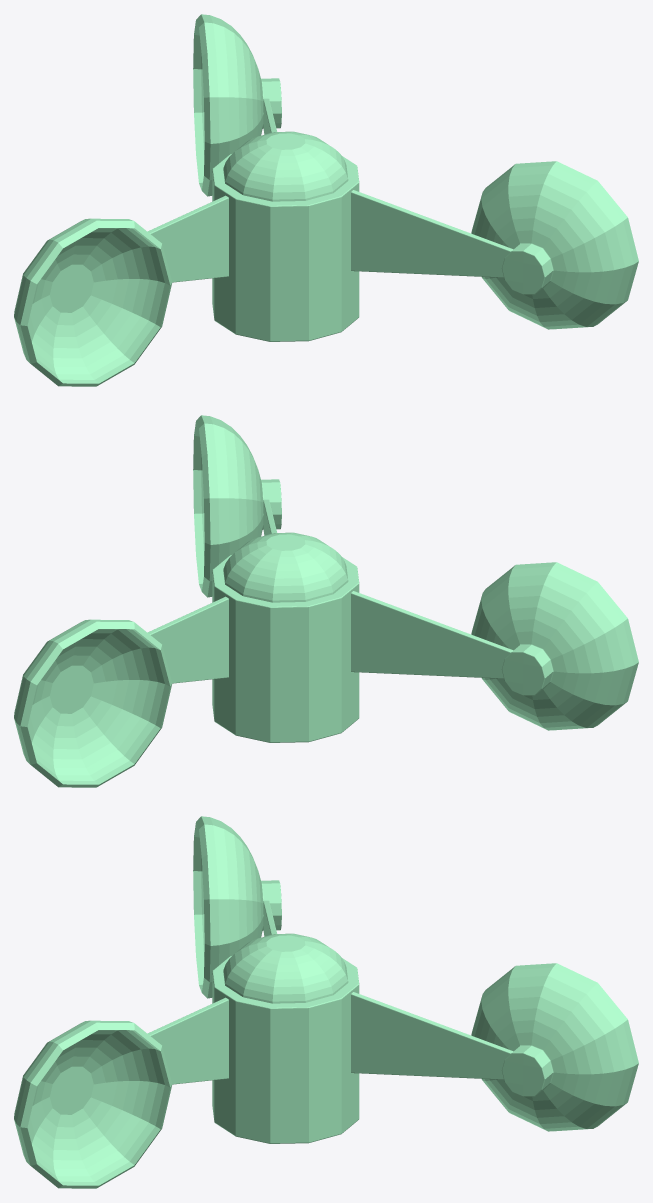
Rendered from TurbineTop.fbx.
3 views of the same model, one above another, from view 1: azimuth 30°, elevation 25°; view 2: azimuth 150°, elevation 25°; view 3: azimuth 270°, elevation 25° (orthographic).
Parts seen in each view (by area): view 1: TurbineCup03, TurbineCup02, TurbineBody, TurbineCup01, TurbineArm03, TopLight, TurbineArm02; view 2: TurbineCup02, TurbineCup01, TurbineBody, TurbineCup03, TurbineArm02, TopLight, TurbineArm01; view 3: TurbineCup01, TurbineCup03, TurbineBody, TurbineCup02, TurbineArm01, TopLight, TurbineArm03.
Part boxes in pixels (x1,y1,x2,y2): TurbineCup03: (471,161,638,329); TurbineCup02: (14,218,172,386); TurbineBody: (212,154,359,341); TurbineCup01: (193,14,281,196); TurbineArm03: (351,190,513,277); TopLight: (223,131,348,201); TurbineArm02: (147,195,228,282); TurbineCup02: (471,562,638,730); TurbineCup01: (14,619,172,787); TurbineBody: (212,555,359,742); TurbineCup03: (193,415,281,597); TurbineArm02: (351,591,513,678); TopLight: (223,532,348,602); TurbineArm01: (147,596,228,683); TurbineCup01: (471,963,638,1131); TurbineCup03: (14,1020,172,1188); TurbineBody: (212,956,359,1143); TurbineCup02: (193,816,281,998); TurbineArm01: (351,992,513,1079); TopLight: (223,933,348,1003); TurbineArm03: (147,997,228,1084).
Bounding box in the file's own units: 22.49 × 7.15 × 22.91.
